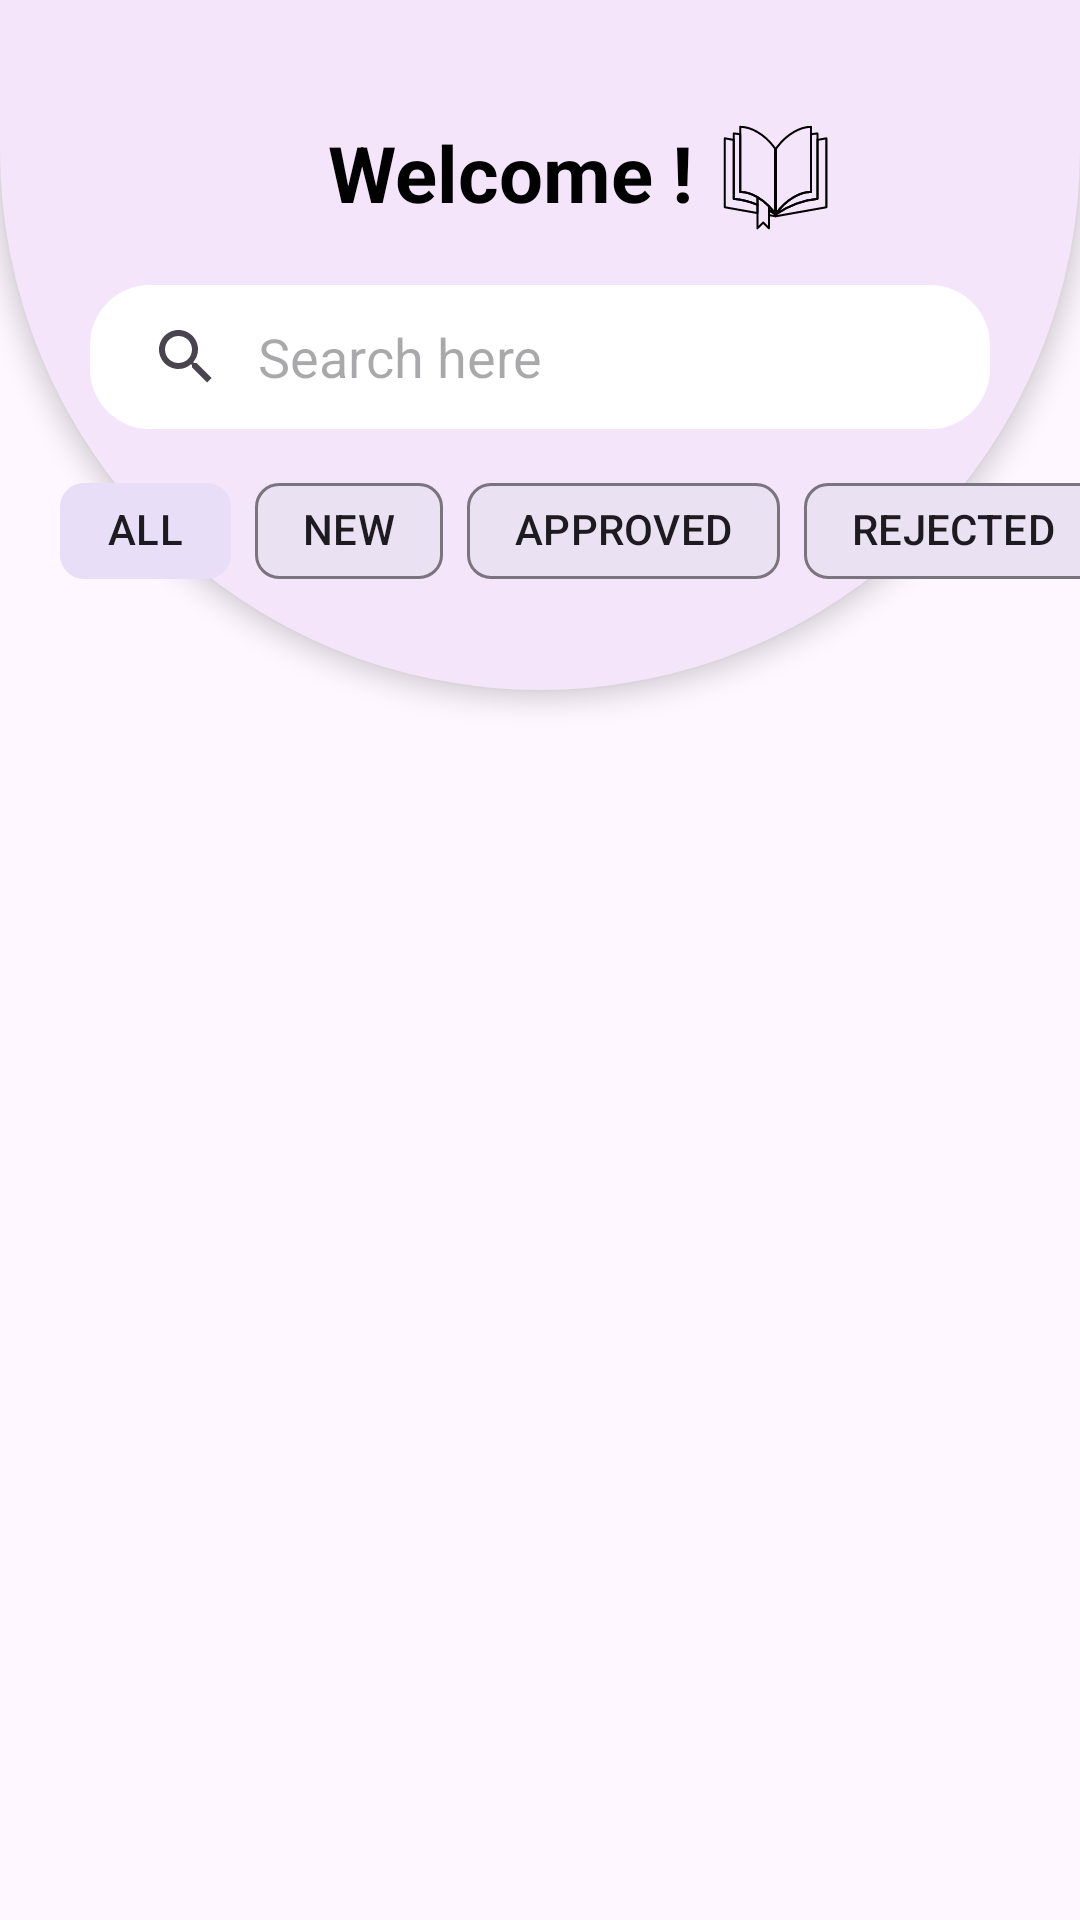

Point at icon controls on the screen. Image size 1080*1920, points as [x,y].
book: [775,177]
